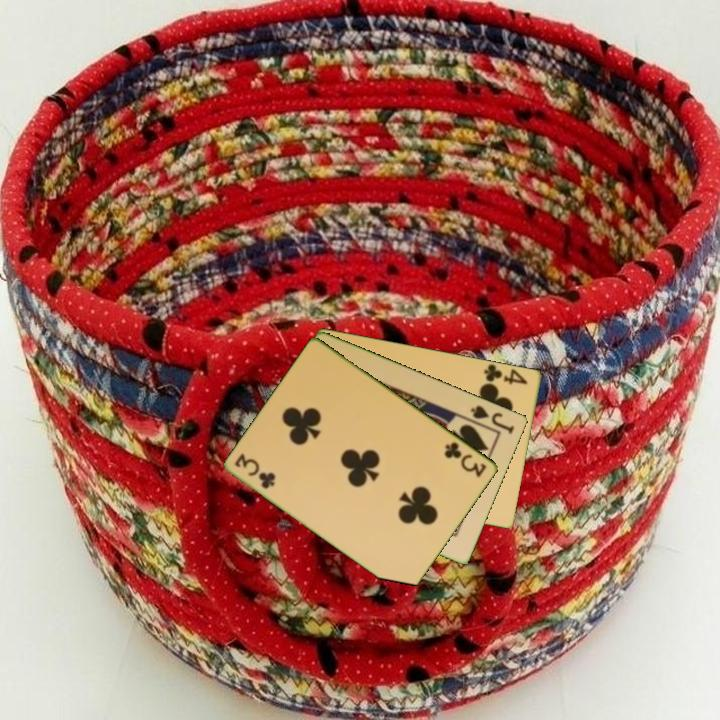3c: (441, 438, 490, 480), (231, 450, 279, 492)
4c: (480, 361, 531, 387)
Js: (467, 402, 517, 437)
